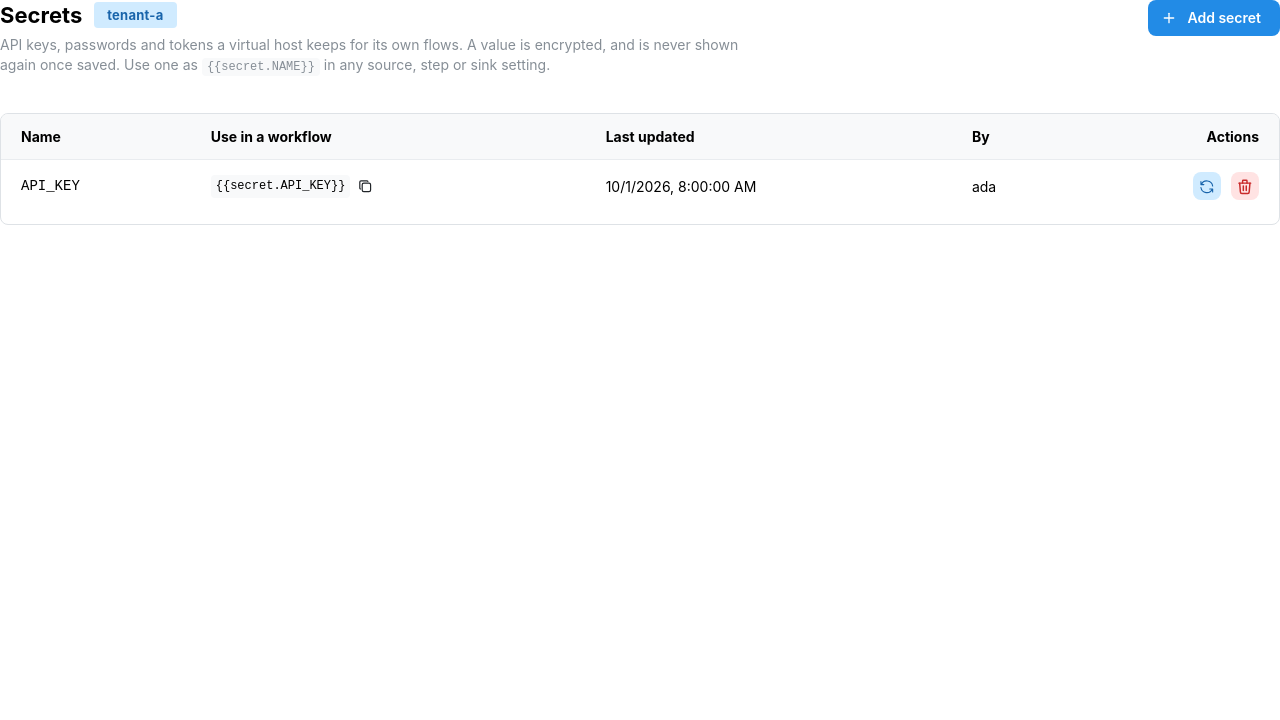
Test: Secrets page › deletes a secret only after the deletion is confirmed
Click the button named "delete API_KEY": (1245, 186) [1231,172,1259,200]
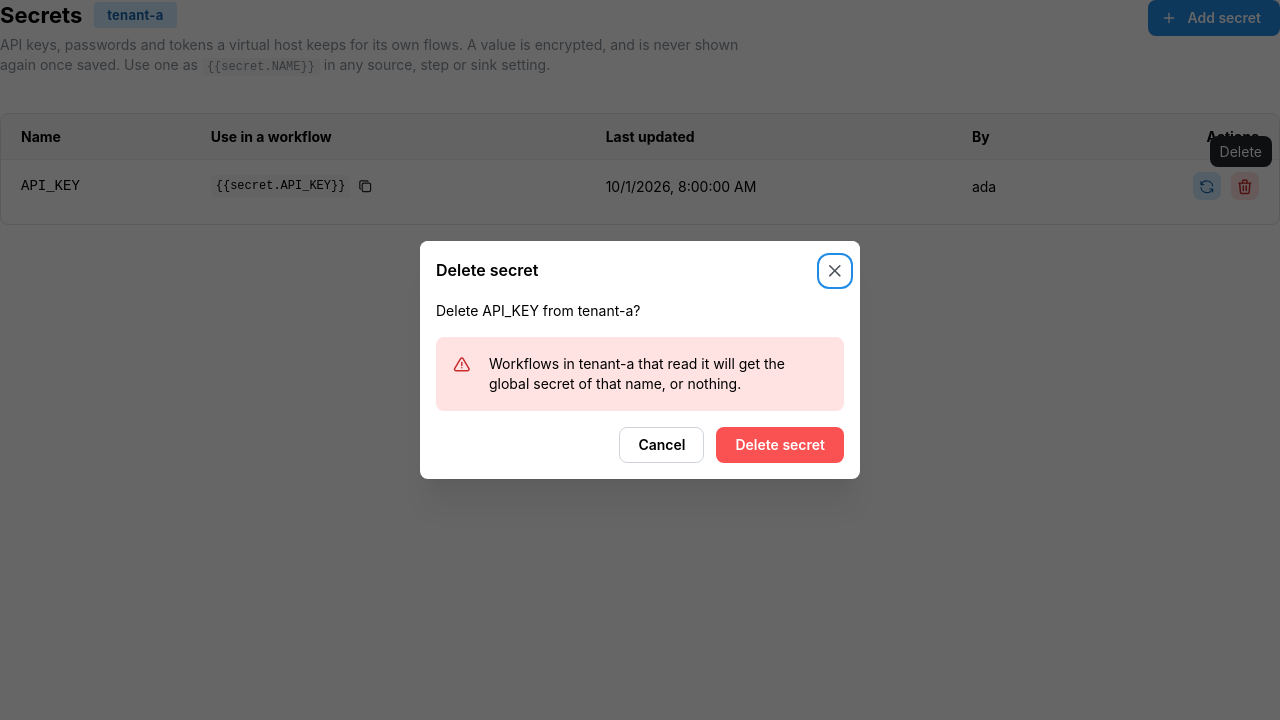
Click the button "Delete secret": (780, 445) [716,427,844,463]
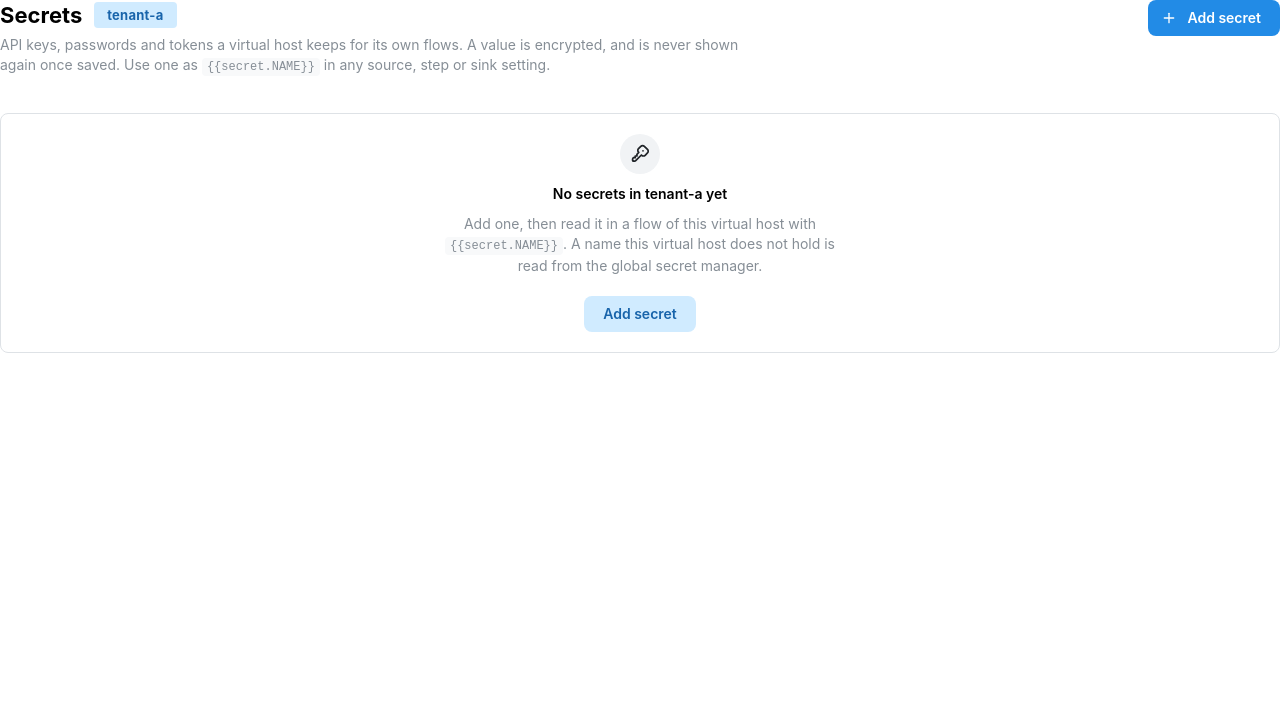
Expected: the text "{{secret.API_KEY}}" is gone
